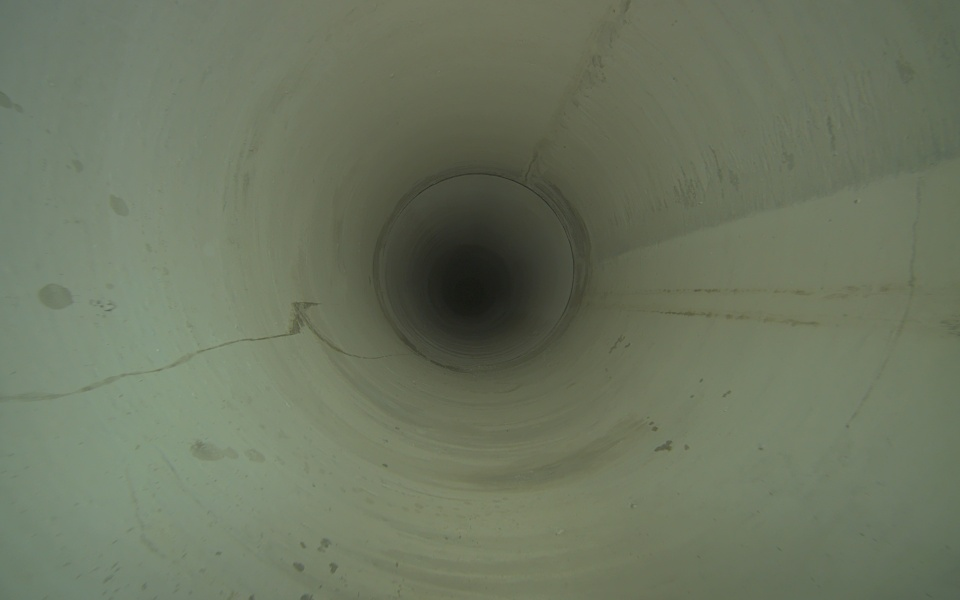circle1: (371, 169, 581, 378)
circle2: (451, 274, 489, 310)
